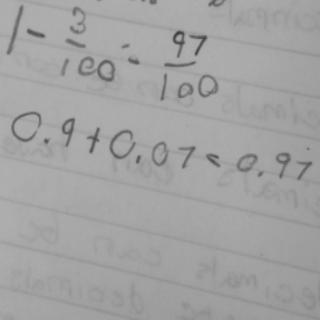.: (253, 167, 268, 181), (133, 150, 145, 165), (39, 135, 54, 145)
0: (11, 110, 44, 141), (113, 129, 135, 157), (151, 141, 171, 169), (197, 73, 220, 97), (235, 152, 258, 172), (98, 57, 116, 81), (179, 80, 195, 98)
1: (4, 5, 24, 51), (61, 54, 73, 80), (160, 72, 167, 101)
3: (69, 8, 90, 34)
7: (176, 141, 197, 173), (296, 159, 317, 180), (189, 32, 209, 54)
9: (61, 116, 76, 148), (275, 149, 290, 181), (172, 30, 186, 57)
